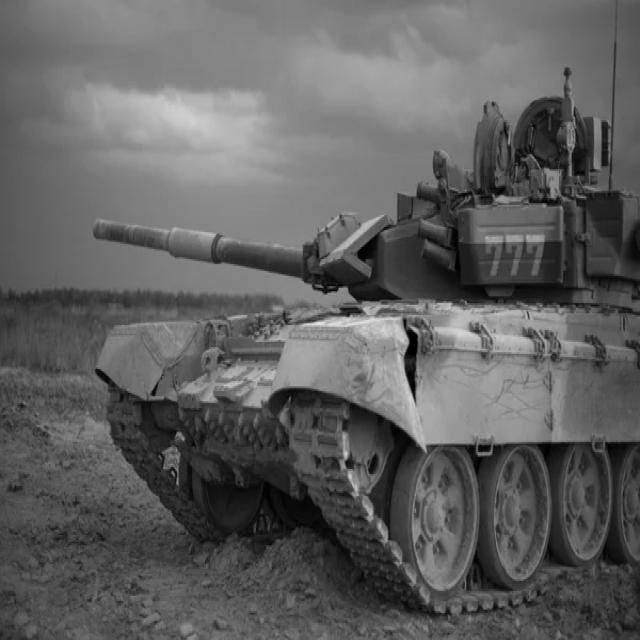Tank: (87, 71, 640, 612)
